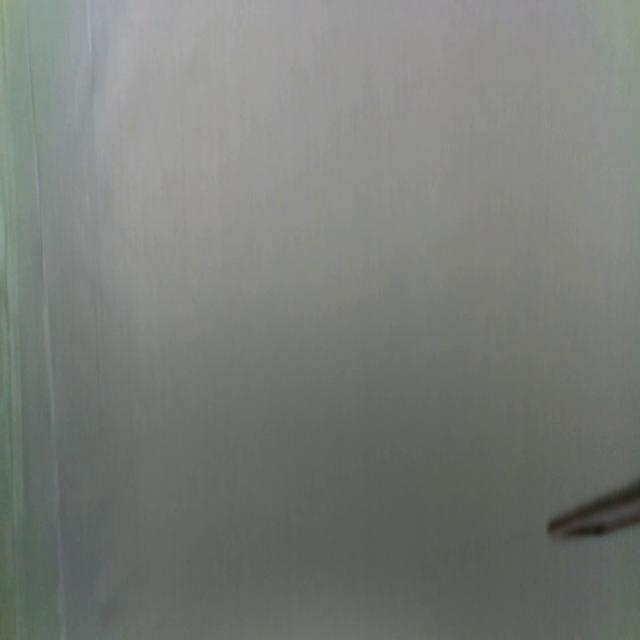crease: (24, 0, 66, 640), (2, 0, 22, 640), (85, 0, 98, 166)
